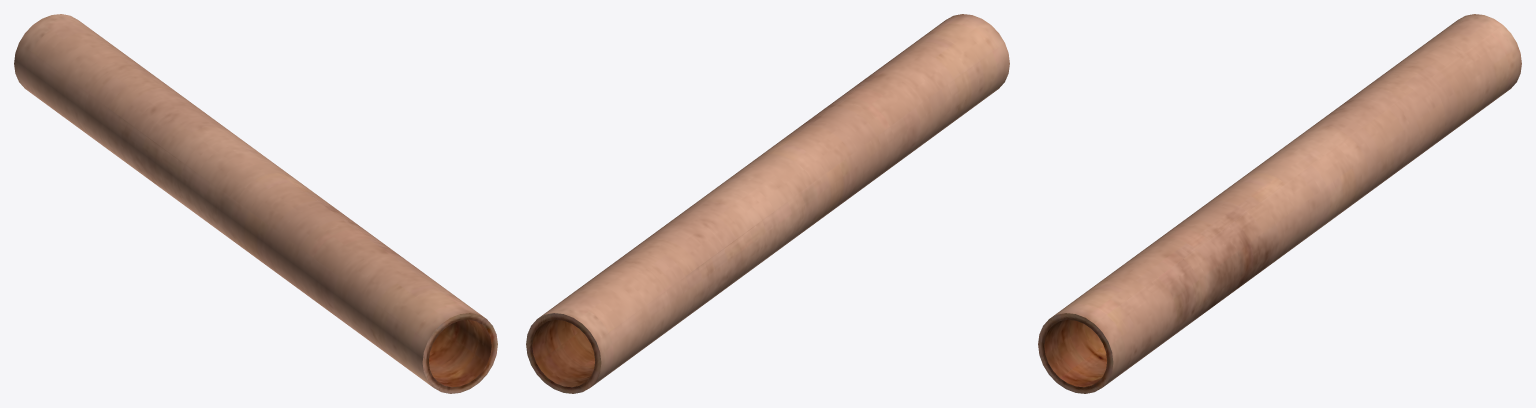
Rendered from small_copper_pipe_07.glb.
The picture shows the model from 3 angles, left to right: view 1: azimuth 30°, elevation 25°; view 2: azimuth 150°, elevation 25°; view 3: azimuth 330°, elevation 25°; orthographic projection.
Visible parts, largest first — view 1: small_copper_pipe_07; view 2: small_copper_pipe_07; view 3: small_copper_pipe_07.
Part boxes in pixels (<box>): small_copper_pipe_07: <box>14,14,497,393</box>; small_copper_pipe_07: <box>526,14,1009,393</box>; small_copper_pipe_07: <box>1038,14,1521,393</box>.
Size of what is drawn, in the model's own units: 0.0202 by 0.0202 by 0.19.
1 material, 1 textured.
